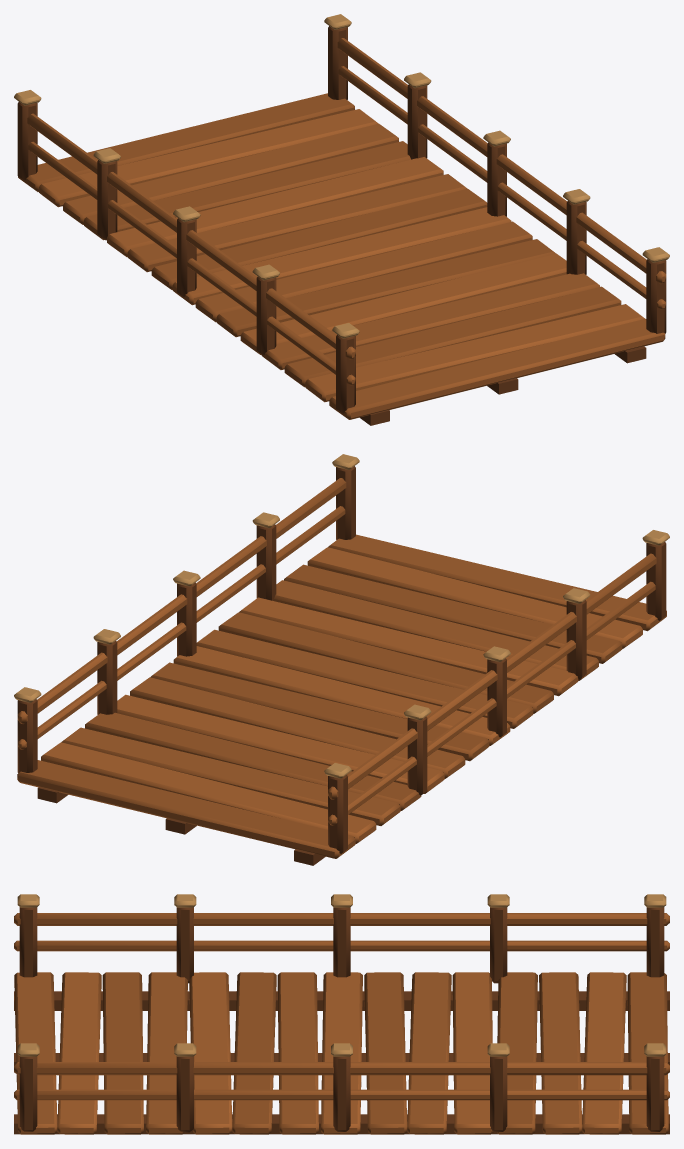
Rendered from p_bridge.glb.
The picture shows the model from 3 angles, top to bottom: view 1: azimuth 30°, elevation 25°; view 2: azimuth 150°, elevation 25°; view 3: azimuth 270°, elevation 25°; orthographic projection.
Parts seen in each view (by area): view 1: body; view 2: body; view 3: body.
Boxes of the visible parts, x1=… form: body: x1=14, y1=14, x2=669, y2=425; body: x1=14, y1=454, x2=669, y2=865; body: x1=14, y1=894, x2=669, y2=1134.
Bounding box in the file's own units: 5.14 × 1.45 × 9.
